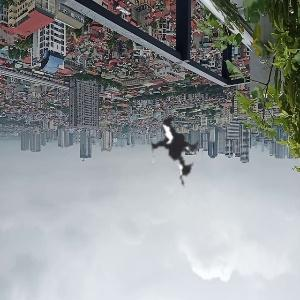drone: (70, 72, 248, 250)
